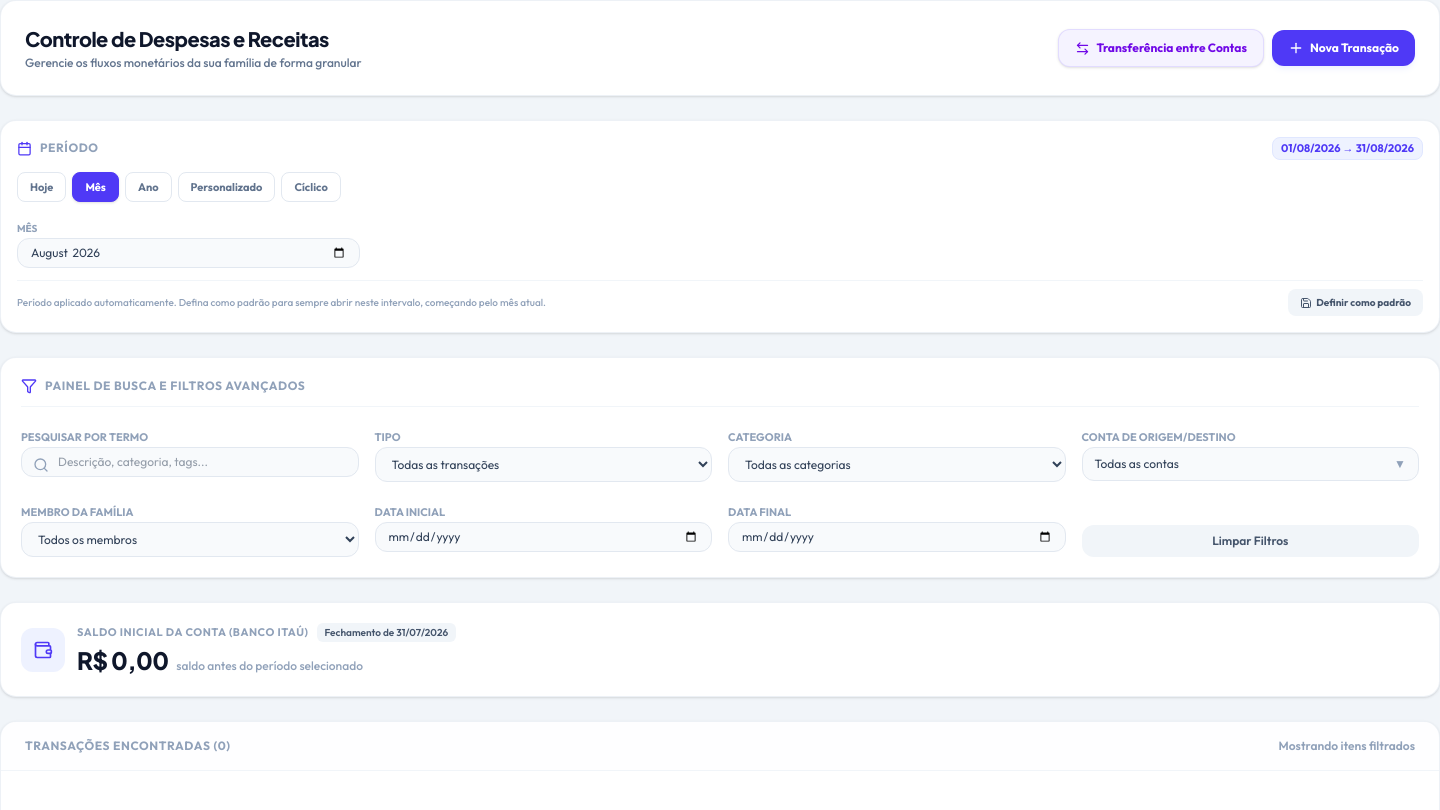
TransactionsManager › abre o modal de nova transação
The image size is (1440, 810).
Click the button with id "add-tx-btn" at [1343, 48], box [1272,30,1415,66]
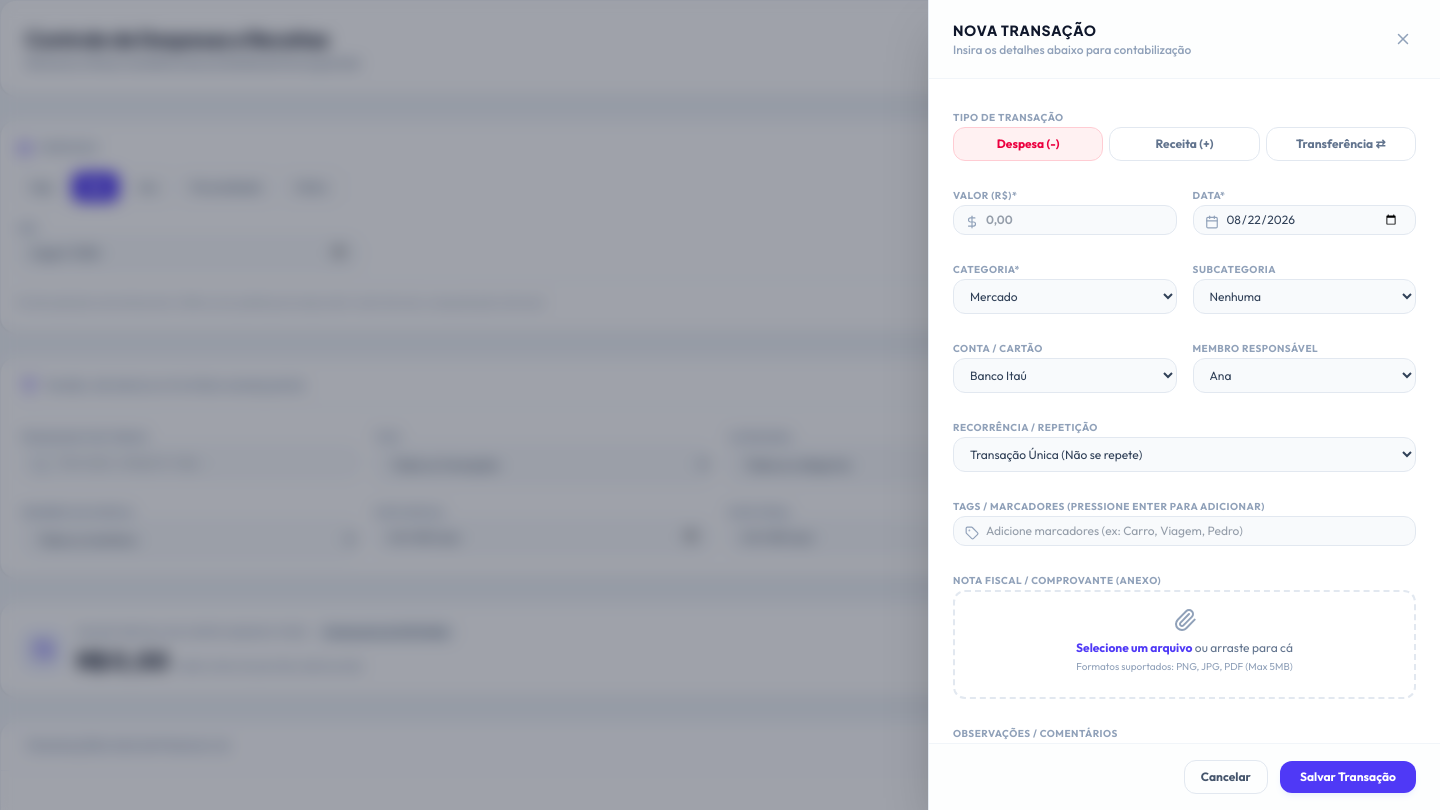
Expected: the element with id "tx-form-container" is shown, [928,0,1439,809]
Expected: the text "Insira os detalhes abaixo para contabilização" is shown, [953,42,1191,58]
